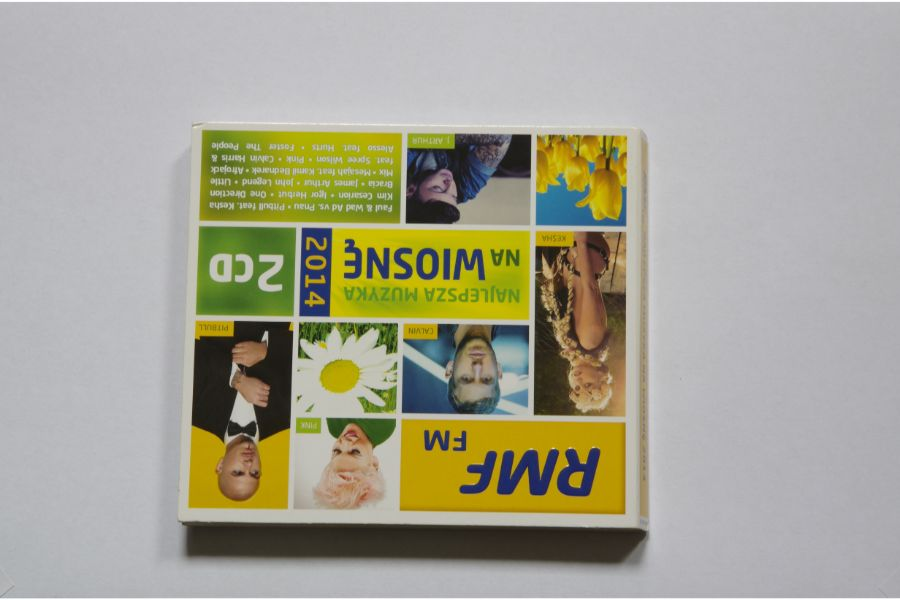album: (177, 118, 651, 541)
